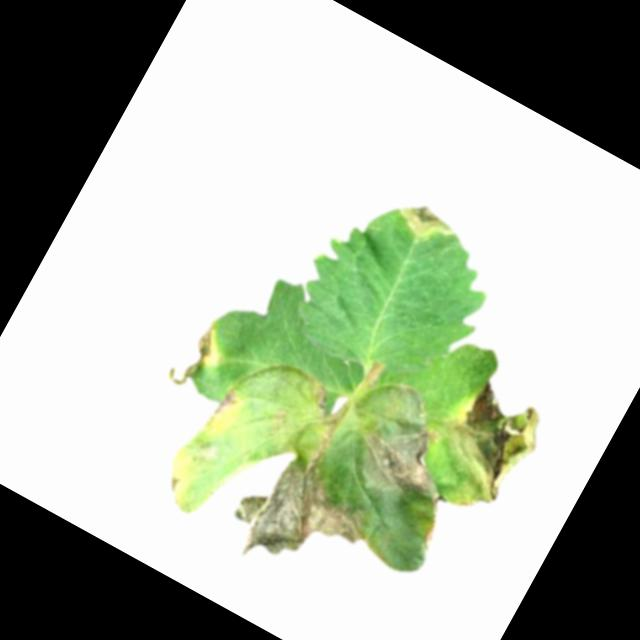Late_blight: (217, 438, 375, 598), (414, 371, 557, 526), (340, 378, 474, 516), (164, 318, 231, 397), (391, 192, 459, 247), (409, 495, 454, 552), (208, 383, 244, 426), (302, 381, 337, 420)
